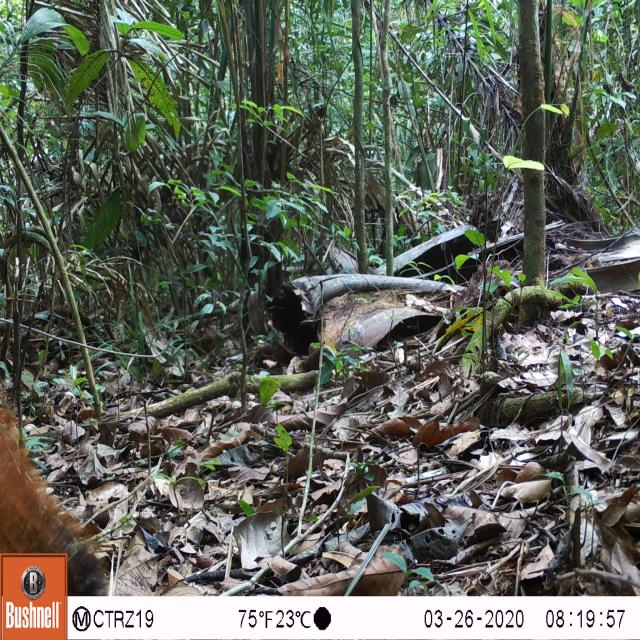Squirrel: (0, 374, 107, 594)
